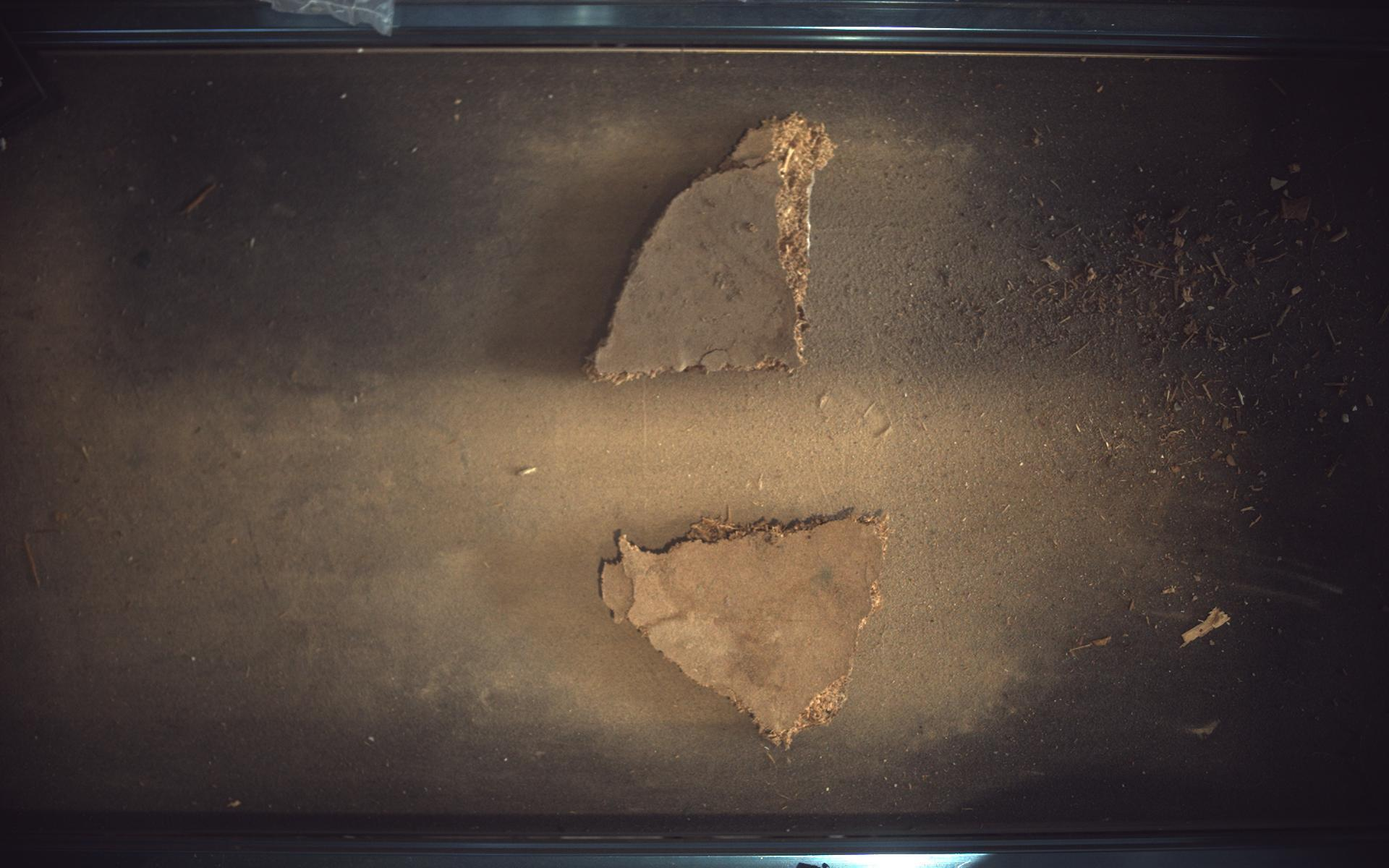wood: (600, 511, 889, 748), (587, 112, 836, 383)
